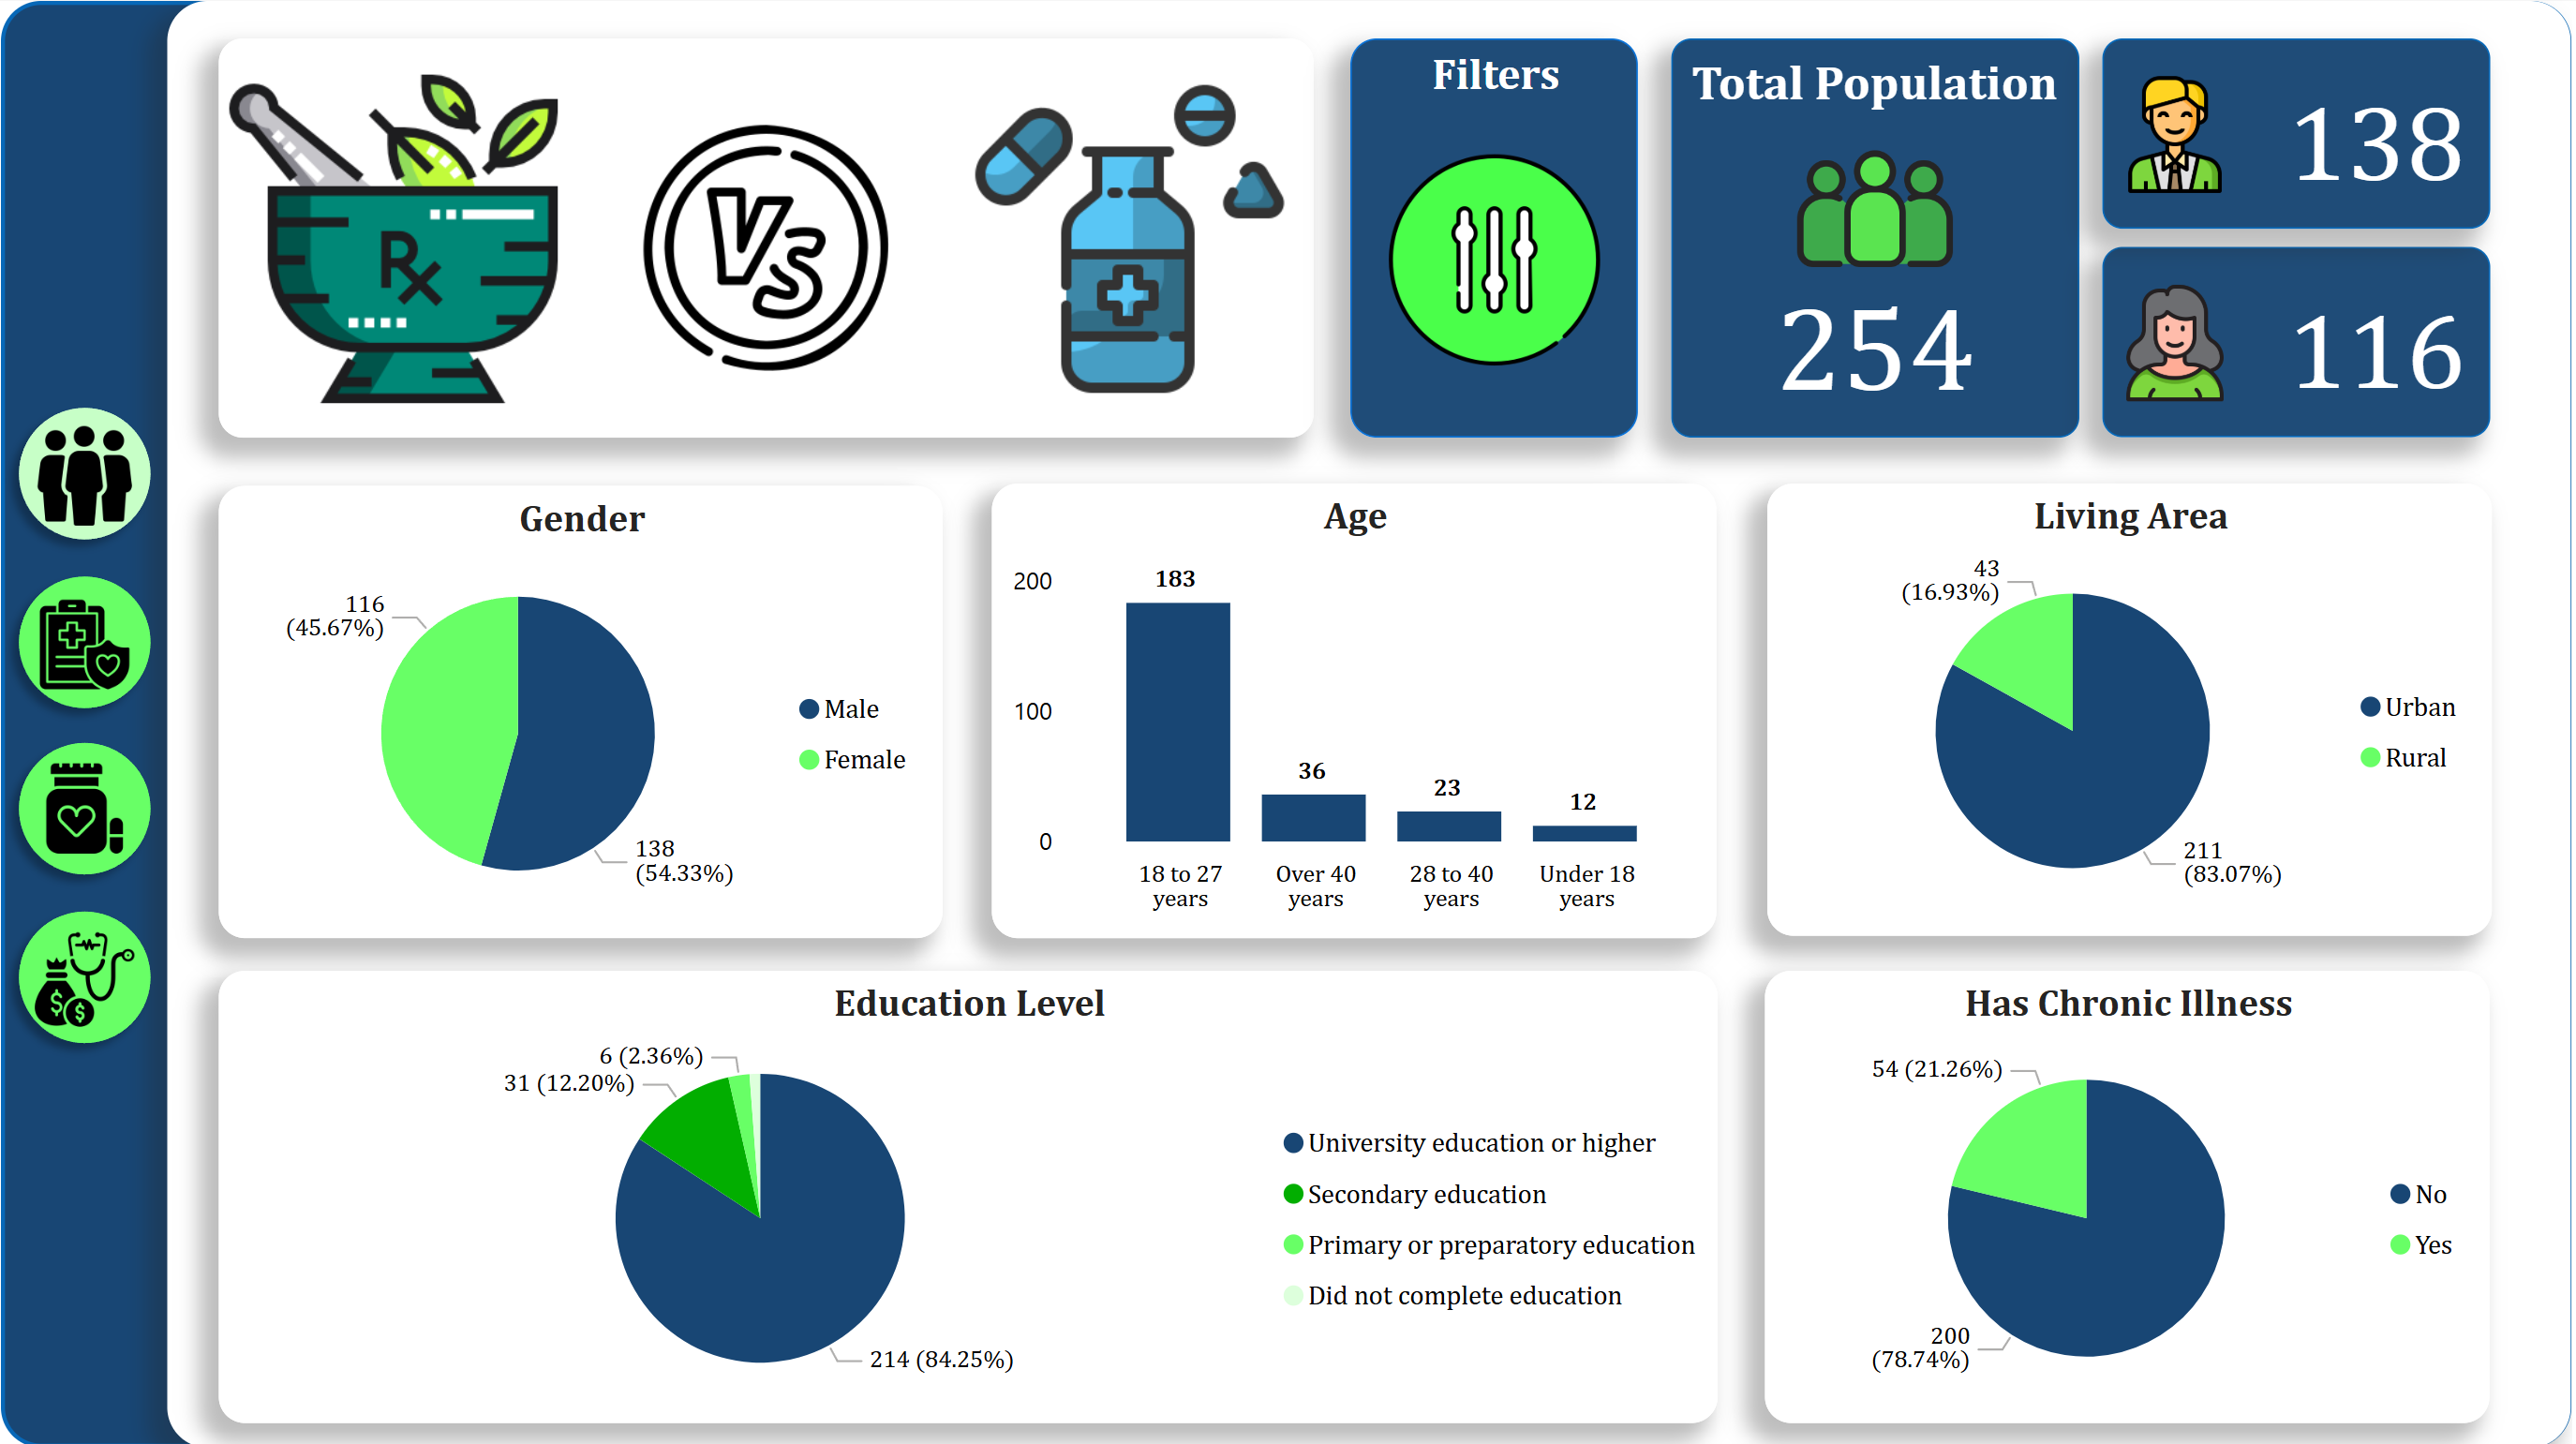

Layout of this report page (visuals, bound fields, positions):
{"tool":"powerbi","page":{"name":"Population_Overview","canvas":[1280,720],"ordinal":0},"visuals":[{"type":"shape","box":[0,0,1280,720.3],"z":0},{"type":"shape","box":[108.5,18.1,545.4,199],"z":0,"group":"g8"},{"type":"shape","title":"Filters","box":[672.3,18.1,143.3,199],"z":0,"group":"g10"},{"type":"group","id":"g1","title":"Total population","box":[832,18.1,203.1,199],"z":0,"group":"g9"},{"type":"shape","box":[832,18.1,203.1,199],"z":0,"group":"g1"},{"type":"shape","box":[1046.3,18.1,193.4,94.6],"z":0,"group":"g5"},{"type":"shape","box":[1046.3,122.4,193.4,94.6],"z":0,"group":"g3"},{"type":"group","id":"g2","title":"Population_Overview","box":[0,193.4,83.5,83.5],"z":0,"group":"g11"},{"type":"shape","box":[0,193.4,83.5,83.5],"z":0,"group":"g2"},{"type":"shape","box":[0,276.9,83.5,83.5],"z":0,"group":"g4"},{"type":"shape","box":[0,360.4,83.5,83.5],"z":0,"group":"g6"},{"type":"shape","box":[0,443.8,83.5,83.5],"z":0,"group":"g7"},{"type":"shape","box":[83.3,0,1196.7,720.3],"z":1000},{"type":"card","fields":{"Values":["Dax_Measures.Total_Male"]},"box":[1125.6,29.2,114.1,72.3],"z":1000,"group":"g5"},{"type":"image","box":[467.5,30.6,186.4,173.9],"z":1000,"group":"g8"},{"type":"image","box":[671.7,70.4,143.3,115.5],"z":1000,"group":"g10"},{"type":"group","id":"g3","title":"Total_females","box":[1046.3,122.4,193.4,94.6],"z":1000,"group":"g9"},{"type":"card","fields":{"Values":["Dax_Measures.Total_Population"]},"box":[859.9,128.6,147.3,76.7],"z":1000,"group":"g1"},{"type":"image","box":[1046.3,133.5,72.3,72.3],"z":1000,"group":"g3"},{"type":"image","box":[11.1,205.9,59.8,59.8],"z":1000,"group":"g2"},{"type":"group","id":"g4","title":"Health","box":[0,276.9,83.5,83.5],"z":1000,"group":"g11"},{"type":"image","box":[11.1,289.4,59.8,59.8],"z":1000,"group":"g4"},{"type":"image","box":[11.1,371.5,59.8,59.8],"z":1000,"group":"g6"},{"type":"image","box":[11.1,456.3,59.8,59.8],"z":1000,"group":"g7"},{"type":"group","id":"g5","title":"Total_males","box":[1046.3,18.1,193.4,94.6],"z":2000,"group":"g9"},{"type":"image","box":[1046.3,29.2,72.3,72.3],"z":2000,"group":"g5"},{"type":"image","box":[108.5,30.6,173.9,173.9],"z":2000,"group":"g8"},{"type":"image","box":[878.5,58.7,109.9,87.7],"z":2000,"group":"g1"},{"type":"card","fields":{"Values":["Dax_Measures.Total_Females"]},"box":[1125.6,133.5,114.1,72.3],"z":2000,"group":"g3"},{"type":"clusteredColumnChart","title":"Age","fields":{"Category":["English_csv.Age"],"Y":["CountNonNull(English_csv.Age)"]},"box":[493.9,240.1,360.7,226.4],"z":2000},{"type":"group","id":"g6","title":"Medication_Usage","box":[0,360.4,83.5,83.5],"z":2000,"group":"g11"},{"type":"image","box":[296.3,47.3,169.7,150.3],"z":3000,"group":"g8"},{"type":"pieChart","title":"Gender","fields":{"Category":["English_csv.Gender"],"Y":["CountNonNull(English_csv.Gender)"]},"box":[108.5,241,360.3,225.4],"z":3000},{"type":"group","id":"g7","title":"Advice_Cost","box":[0,443.8,83.5,83.5],"z":3000,"group":"g11"},{"type":"pieChart","title":"Living Area","fields":{"Category":["English_csv.Living_Area"],"Y":["CountNonNull(English_csv.Living_Area)"]},"box":[879.5,240.1,360.7,225.2],"z":4000},{"type":"pieChart","title":"Has Chronic Illness","fields":{"Category":["English_csv.Chronic_Illness"],"Y":["CountNonNull(English_csv.Chronic_Illness)"]},"box":[878.2,482.7,360.7,225.2],"z":5000},{"type":"pieChart","title":"Education Level","fields":{"Category":["English_csv.Education_Level"],"Y":["CountNonNull(English_csv.Education_Level)"]},"box":[108.2,482.7,746.4,225.2],"z":6000},{"type":"group","id":"g8","title":"natural vs. pharm","box":[108.5,18.1,545.4,199],"z":7000},{"type":"group","id":"g9","title":"Population","box":[832,18.1,407.7,199],"z":8000},{"type":"group","id":"g10","title":"Filter","box":[671.7,18.1,143.3,199],"z":9000},{"type":"group","id":"g11","title":"Buttons","box":[0,193.4,83.5,333.9],"z":10000}]}

Visuals, with their boxes in screenshot pixels (x1, y1, x2, y2), scaled from the page's 1280x720 canvas onto the 2576x1444 screenshot:
shape: select_region(0, 0, 2575, 1443)
shape: select_region(218, 37, 1316, 436)
"Filters" shape: select_region(1353, 37, 1642, 436)
"Total population" group: select_region(1675, 37, 2083, 436)
shape: select_region(1675, 37, 2083, 436)
shape: select_region(2106, 37, 2494, 226)
shape: select_region(2106, 246, 2494, 435)
"Population_Overview" group: select_region(0, 388, 168, 556)
shape: select_region(0, 388, 168, 556)
shape: select_region(0, 556, 168, 722)
shape: select_region(0, 722, 168, 890)
shape: select_region(0, 890, 168, 1058)
shape: select_region(168, 0, 2575, 1443)
card - Dax_Measures.Total_Male: select_region(2265, 58, 2494, 203)
image: select_region(941, 61, 1316, 410)
image: select_region(1352, 141, 1640, 373)
"Total_females" group: select_region(2106, 246, 2494, 435)
card - Dax_Measures.Total_Population: select_region(1731, 258, 2027, 411)
image: select_region(2106, 268, 2251, 412)
image: select_region(22, 413, 142, 533)
"Health" group: select_region(0, 556, 168, 722)
image: select_region(22, 580, 142, 700)
image: select_region(22, 745, 142, 865)
image: select_region(22, 916, 142, 1035)
"Total_males" group: select_region(2106, 37, 2494, 226)
image: select_region(2106, 58, 2251, 203)
image: select_region(218, 61, 568, 410)
image: select_region(1768, 118, 1989, 293)
card - Dax_Measures.Total_Females: select_region(2265, 268, 2494, 412)
"Age" clusteredColumnChart: select_region(994, 482, 1720, 935)
"Medication_Usage" group: select_region(0, 722, 168, 890)
image: select_region(596, 95, 938, 396)
"Gender" pieChart: select_region(218, 484, 944, 935)
"Advice_Cost" group: select_region(0, 890, 168, 1058)
"Living Area" pieChart: select_region(1770, 482, 2496, 933)
"Has Chronic Illness" pieChart: select_region(1767, 968, 2494, 1420)
"Education Level" pieChart: select_region(217, 968, 1720, 1420)
"natural vs. pharm" group: select_region(218, 37, 1316, 436)
"Population" group: select_region(1675, 37, 2494, 436)
"Filter" group: select_region(1352, 37, 1640, 436)
"Buttons" group: select_region(0, 388, 168, 1058)
